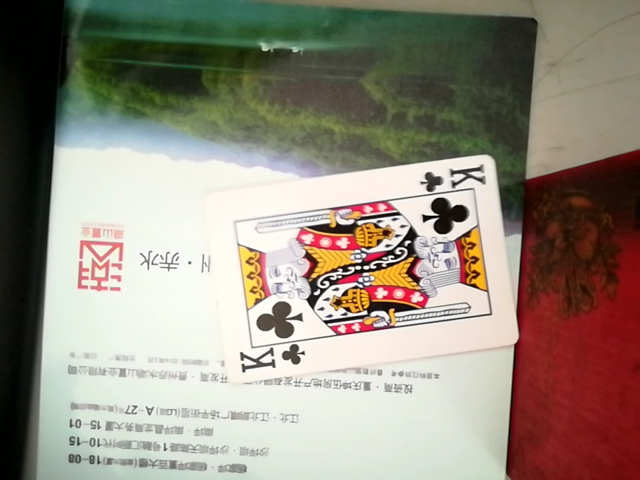mh k: (208, 147, 526, 390)
